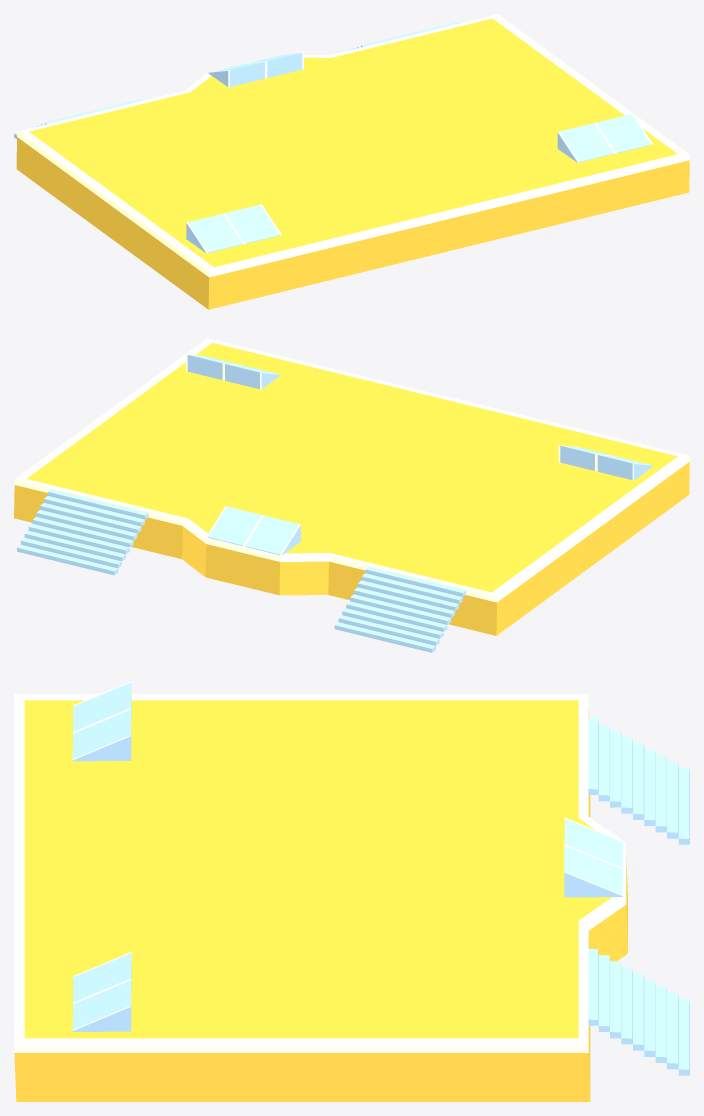
The model's file is ETC0110015.fbx.
The picture shows the model from 3 angles, top to bottom: view 1: azimuth 30°, elevation 25°; view 2: azimuth 150°, elevation 25°; view 3: azimuth 270°, elevation 25°; orthographic projection. The views are drawn at different scales.
Visible parts, largest first — view 1: smETC0110015; view 2: smETC0110015; view 3: smETC0110015.
Part boxes in pixels (left/top/right/bottom): smETC0110015: left=14, top=14, right=689, bottom=309; smETC0110015: left=14, top=338, right=689, bottom=652; smETC0110015: left=14, top=681, right=689, bottom=1101.
Size of the model in its own units: 1497 by 164 by 1220.
1 material, 1 textured.
